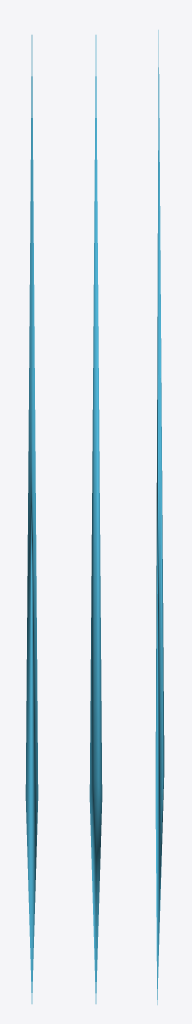
The model's file is SM_thunderstorm_rain_LOD2.fbx.
3 views of the same model, side by side, from view 1: azimuth 30°, elevation 25°; view 2: azimuth 210°, elevation 25°; view 3: azimuth 330°, elevation 25° (orthographic).
Visible parts, largest first — view 1: SM_thunderstorm_rain_LOD2; view 2: SM_thunderstorm_rain_LOD2; view 3: SM_thunderstorm_rain_LOD2.
Part boxes in pixels (x1,y1,x2,y2): SM_thunderstorm_rain_LOD2: [25, 35, 38, 1003]; SM_thunderstorm_rain_LOD2: [89, 35, 102, 1003]; SM_thunderstorm_rain_LOD2: [155, 30, 164, 1004].
Size of the model in its own units: 0.00989 by 0.00805 by 1.
